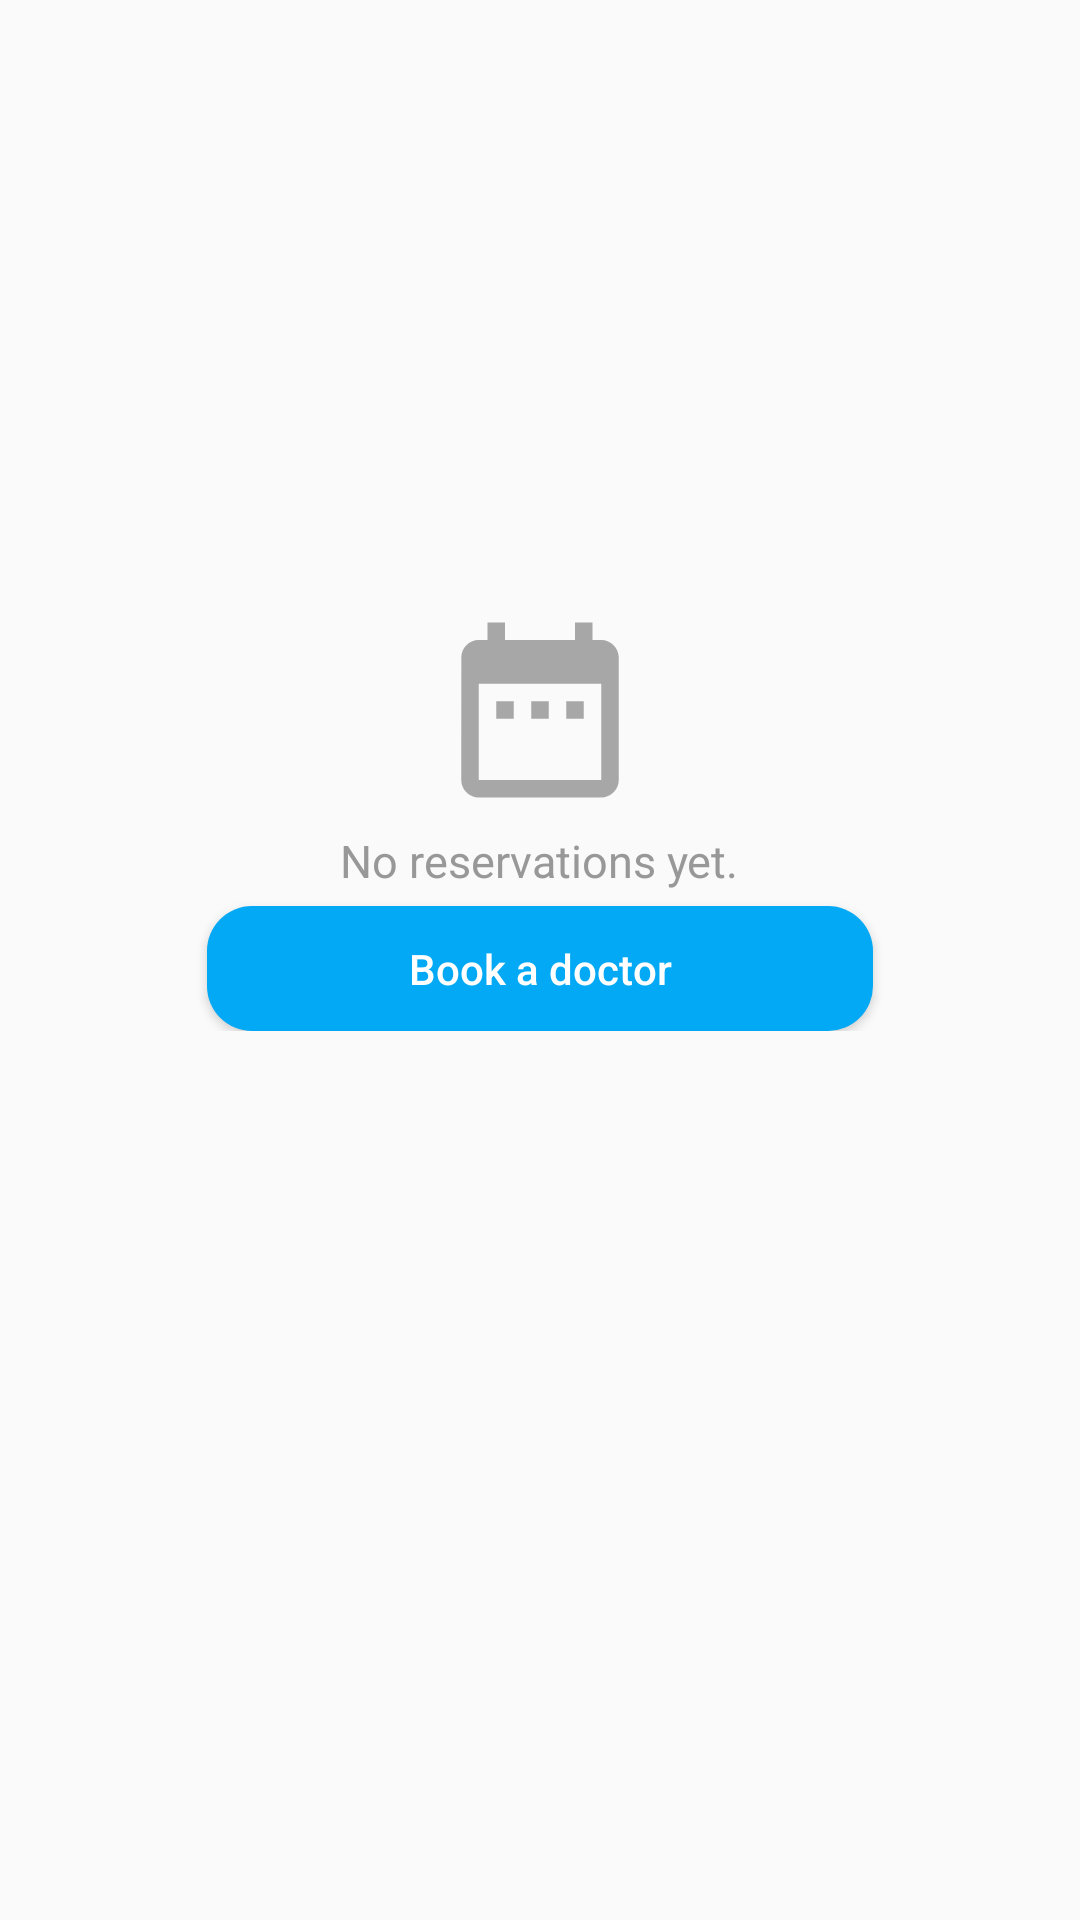

Screen size 1080px x 1920px. Icon name, then its center in pixels as point (x, y):
calender: point (540, 710)
